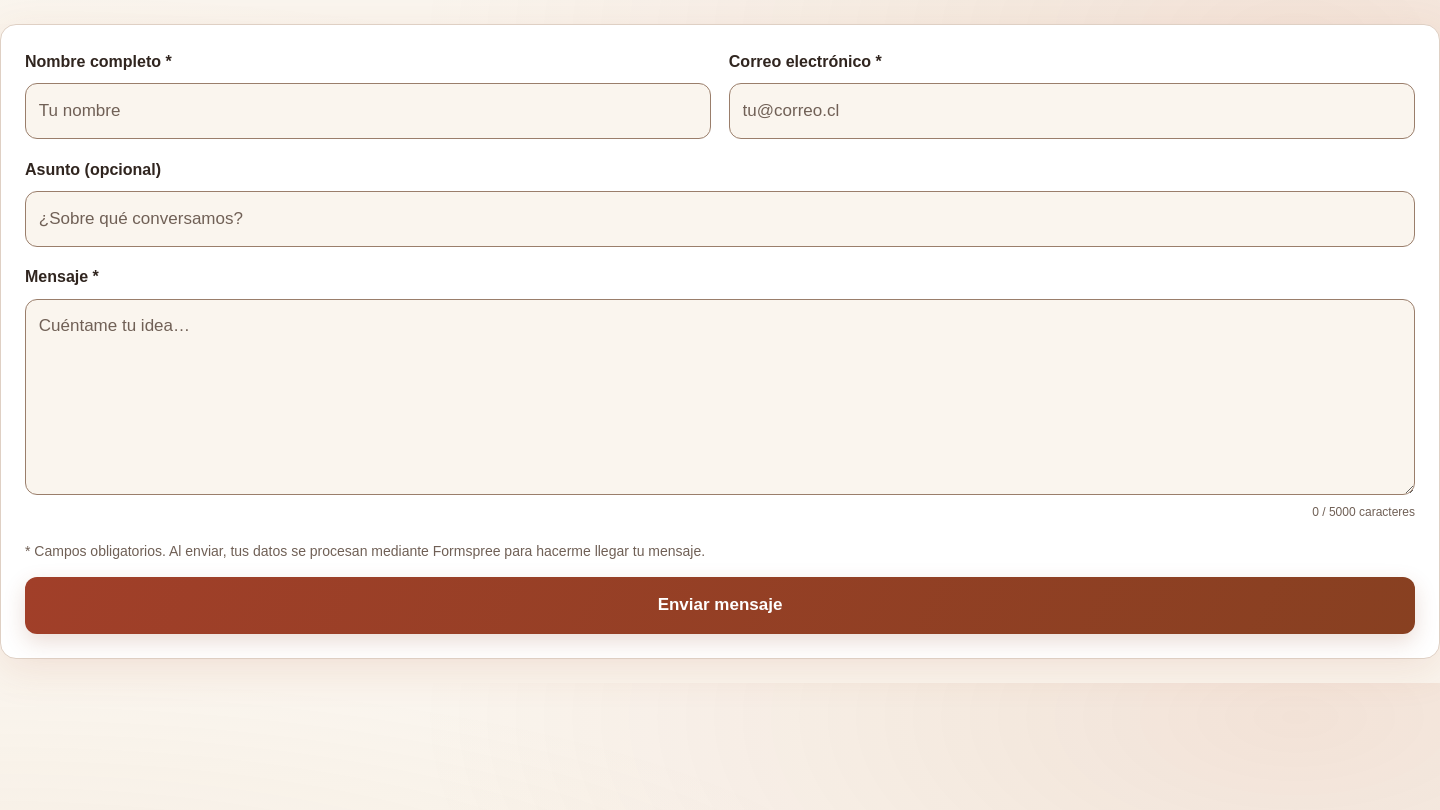
Test: Formulario de contacto › conserva los datos cuando la red falla
Type "  Matías  " into the field labelled "Nombre completo *".
click(368, 111); type("  Matías  ")  # box [25,83,711,139]
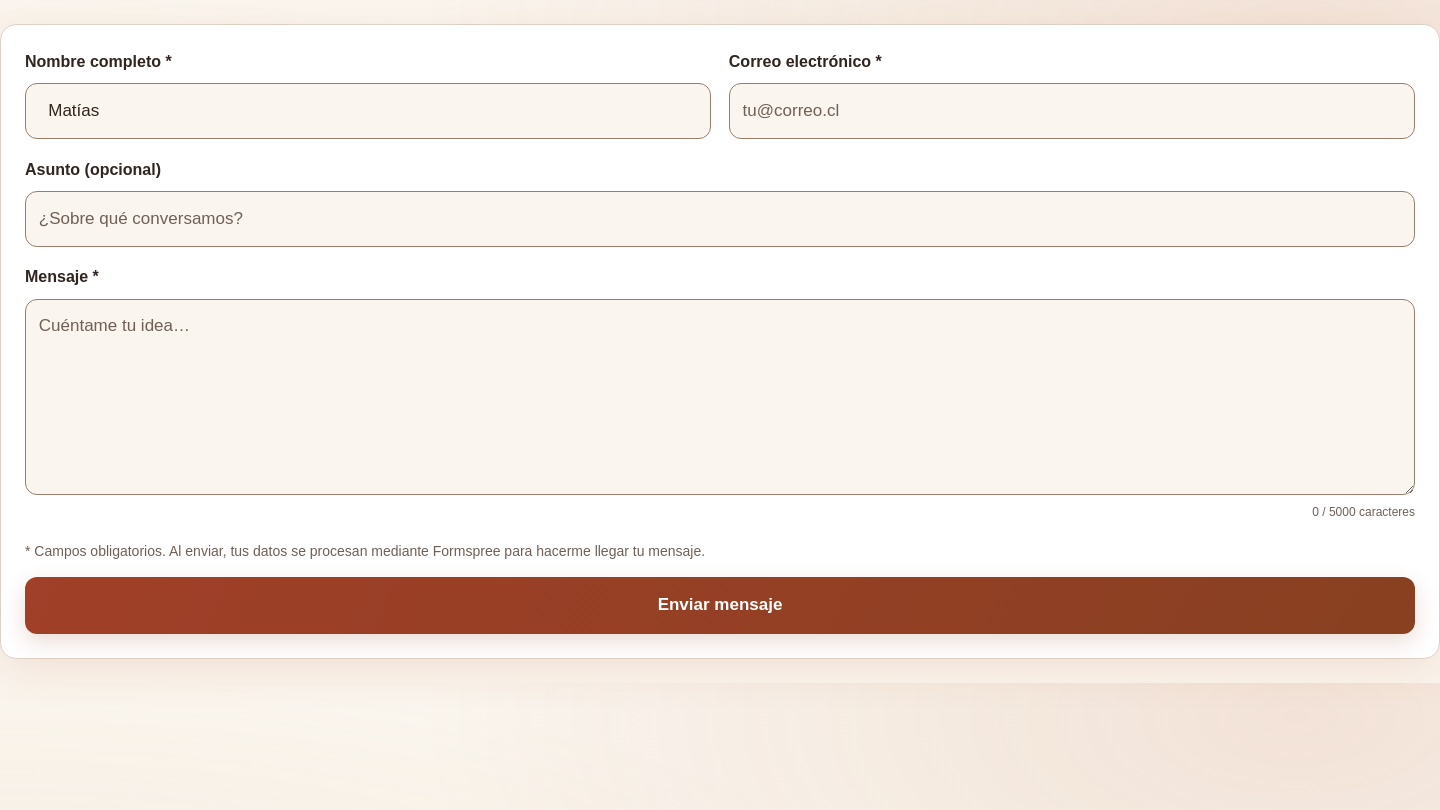
Type "matias@example.com" into the field labelled "Correo electrónico *".
click(1072, 111); type("matias@example.com")  # box [729,83,1415,139]
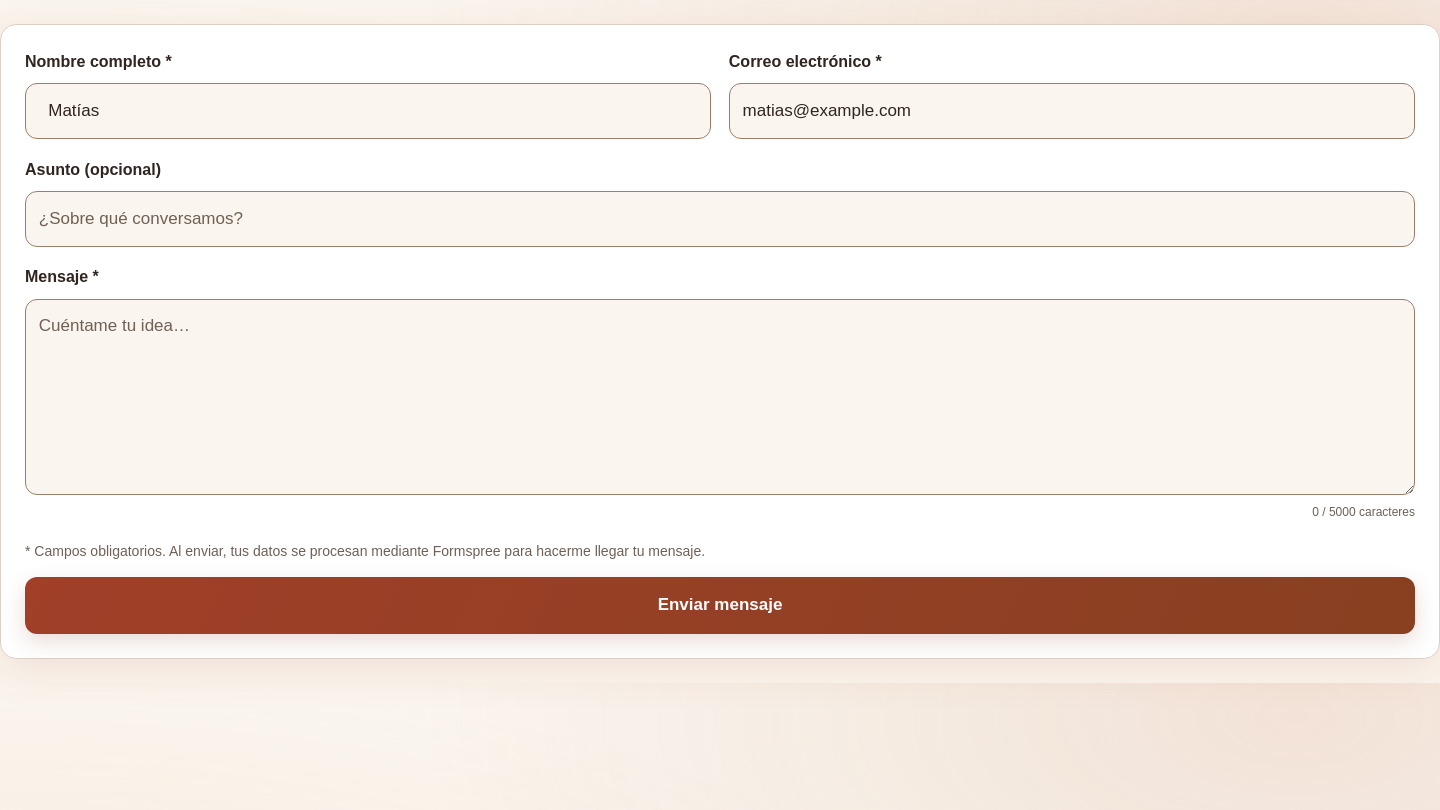
Type "  Consulta  " into the field labelled "Asunto (opcional)".
click(720, 219); type("  Consulta  ")  # box [25,191,1415,247]
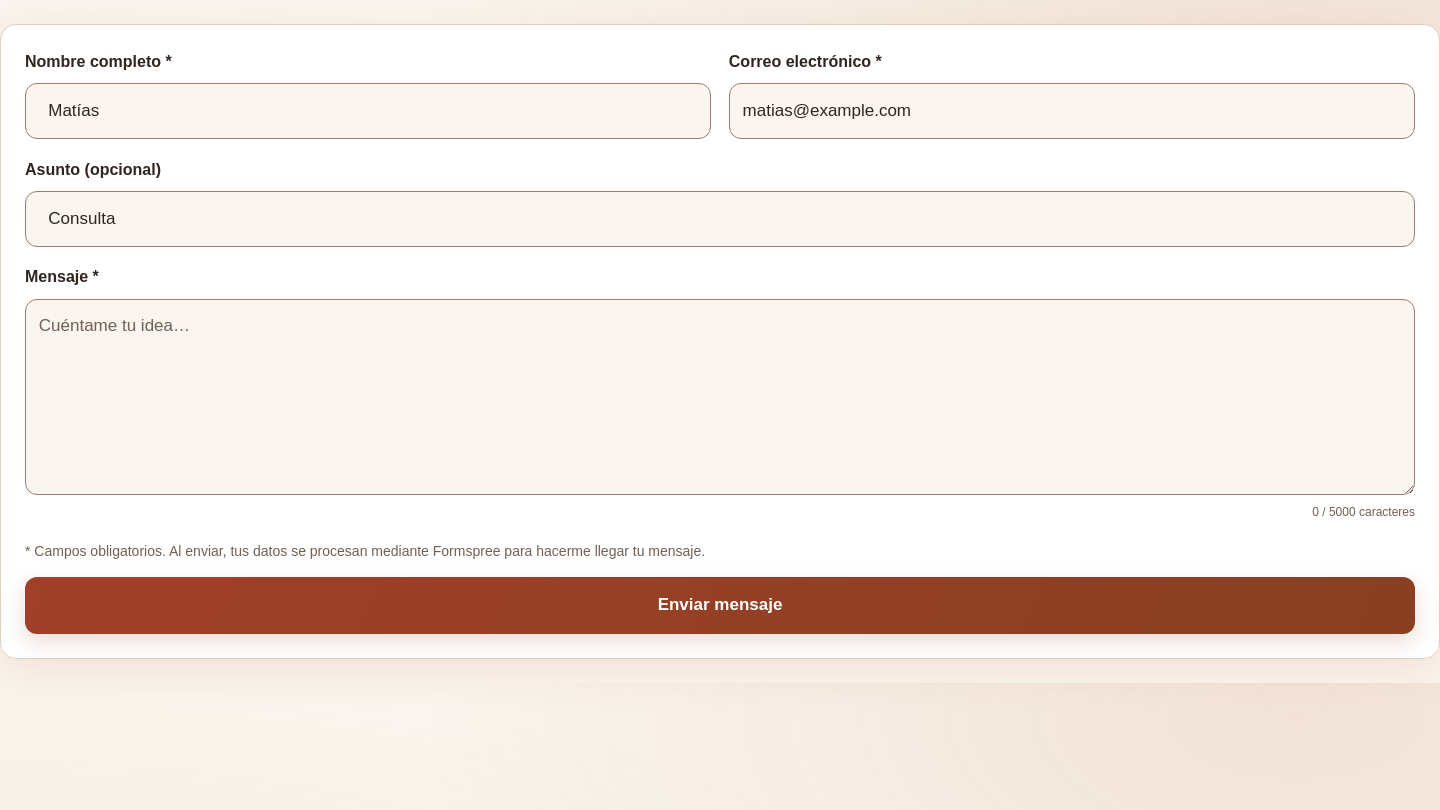
Type "  Quiero conversar sobre un proyecto.  " into the text box labelled "Mensaje *".
click(720, 397); type("  Quiero conversar sobre un proyecto.  ")  # box [25,299,1415,494]
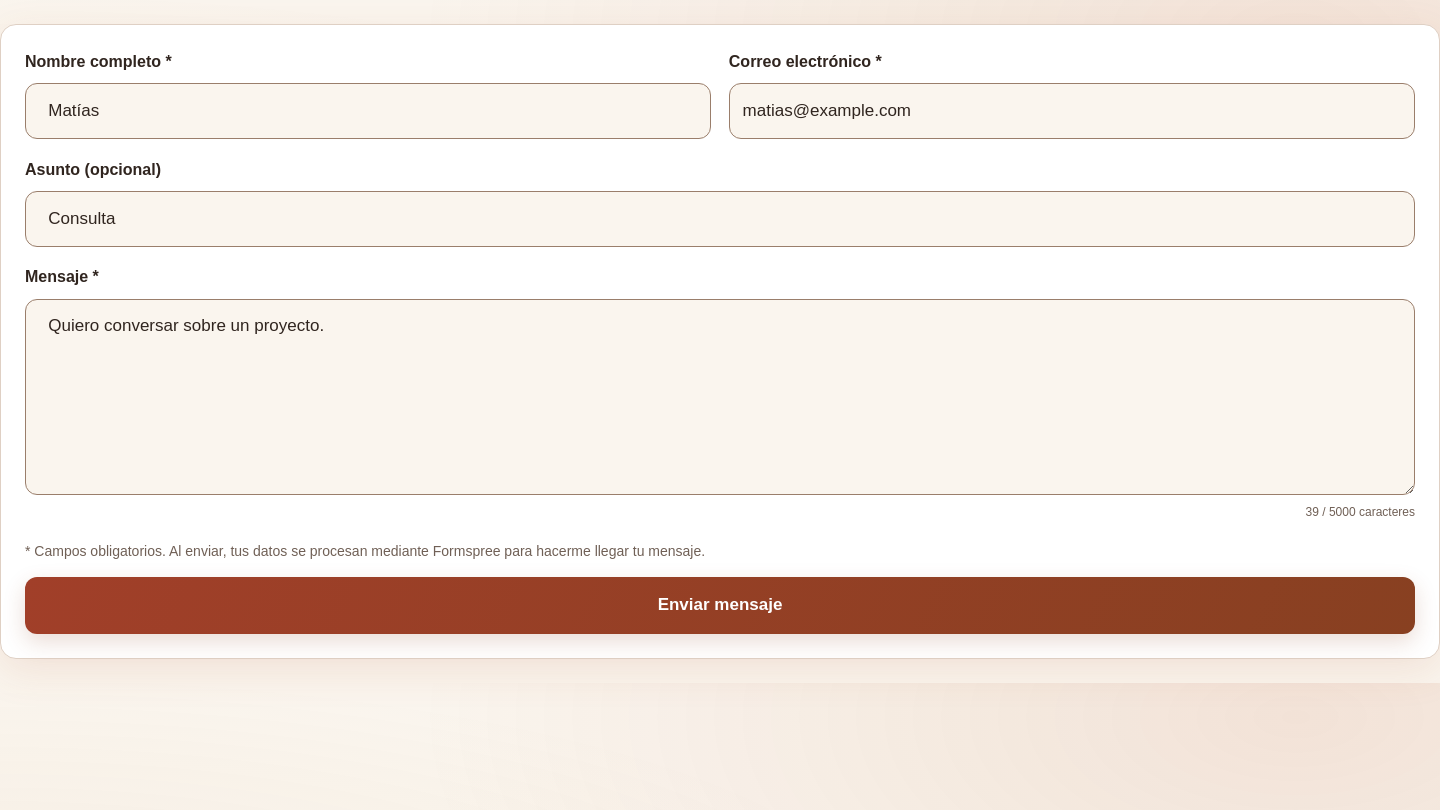
Submit the form
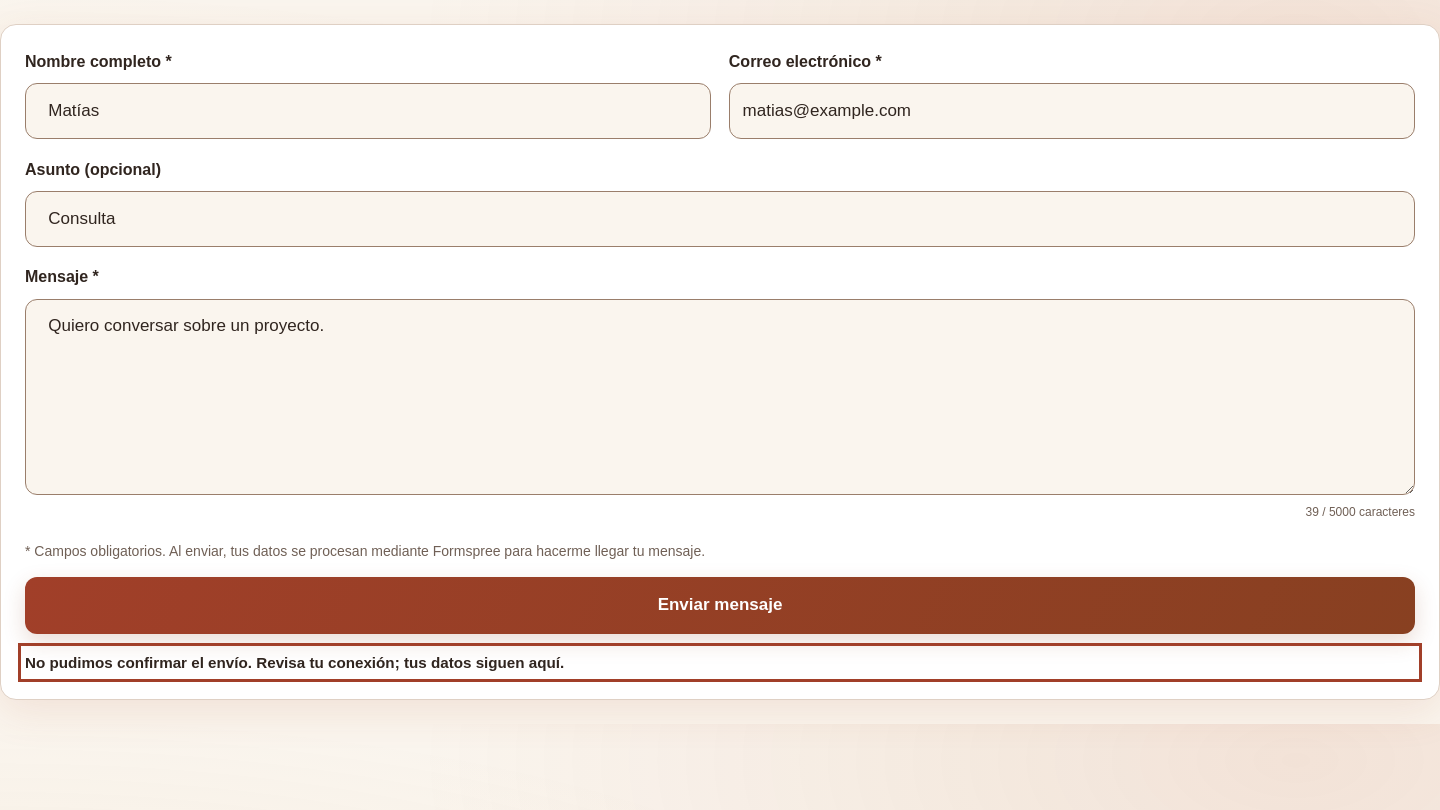
Expected: the message shows "Revisa tu conexión", [25,654,564,671]
